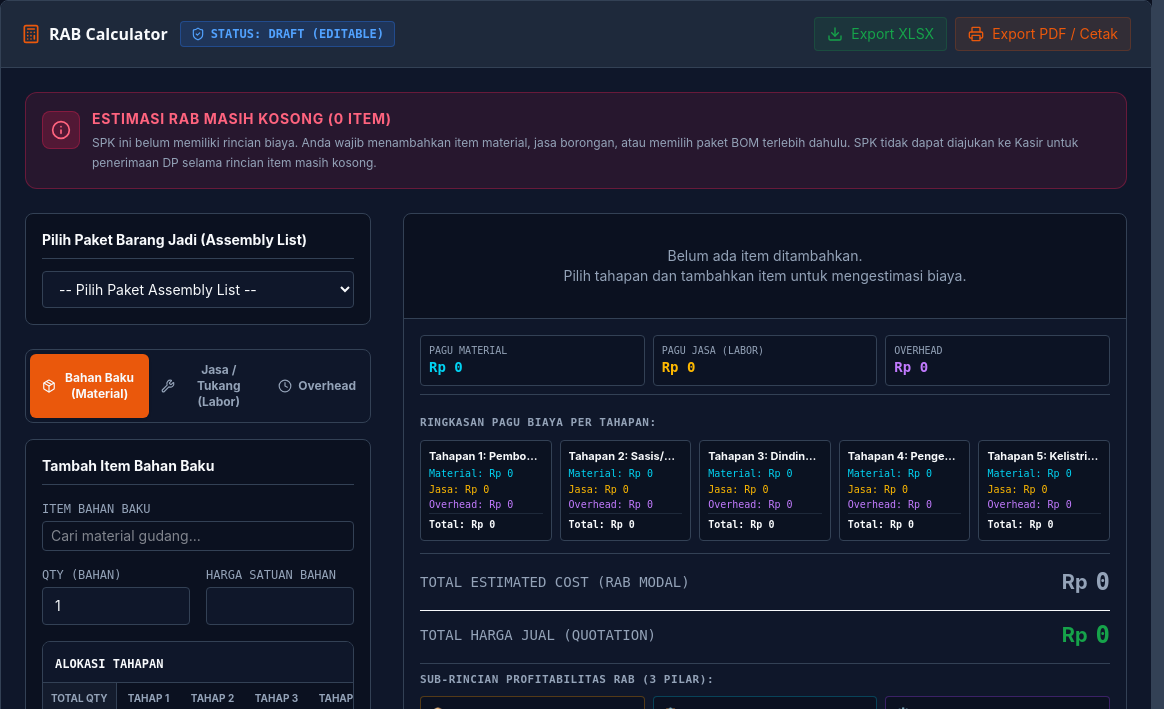
Component: RabCalculator (Labor Entry & Pagu Jasa) › auto-fills labor name and standard selling/cost rate when a suggestion is clicked
Expected: the text "Jasa / Tukang (Labor)" is shown, [197,362,240,409]
Click the button "Jasa / Tukang (Labor)". click: (209, 386)
box: [149,354,268,418]
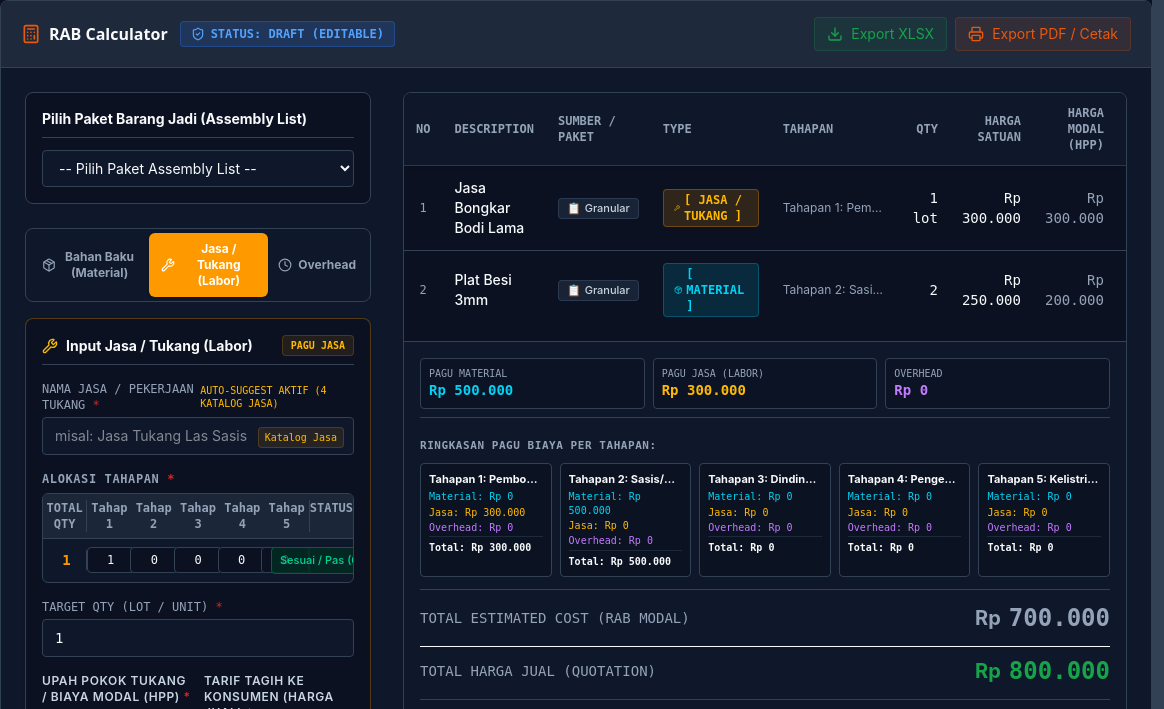
Type "cat" into the field with placeholder "misal: Jasa Tukang Las Sasis". click: (198, 436)
box: [42,417,354,455]
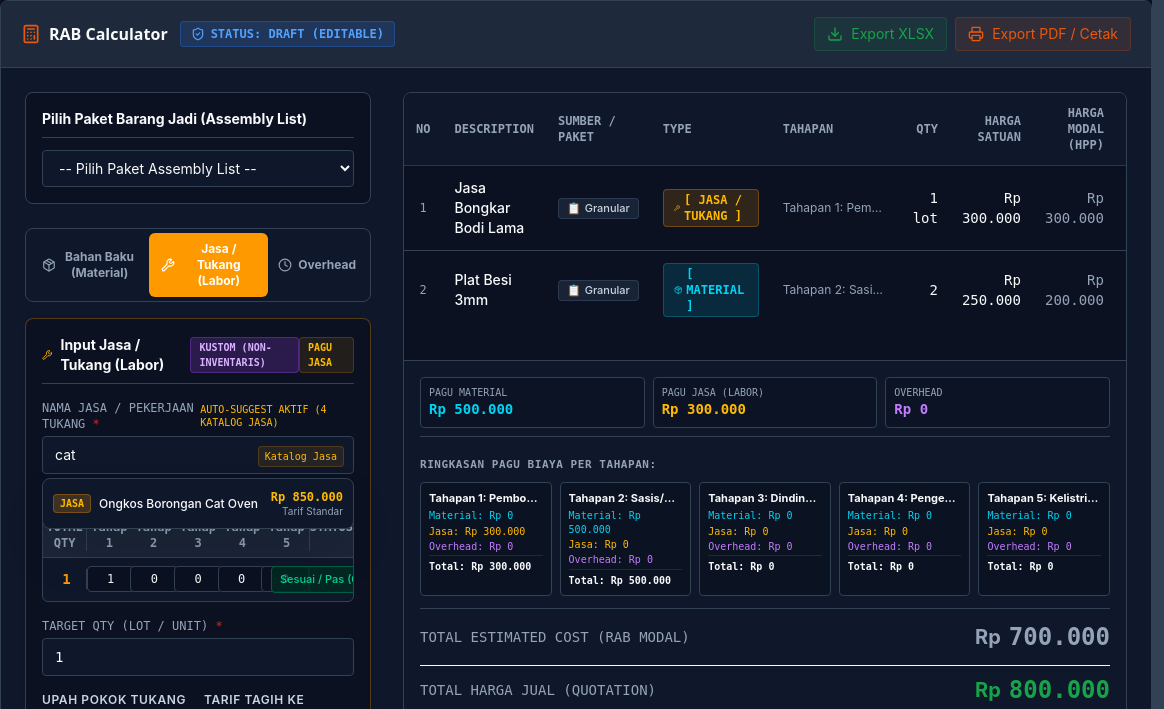
Expected: the text "Ongkos Borongan Cat Oven" is shown
# Select the item via mousedown
Press the mouse on the text "Ongkos Borongan Cat Oven" at (179, 504), box [99,496,258,512]
(page scrolled)
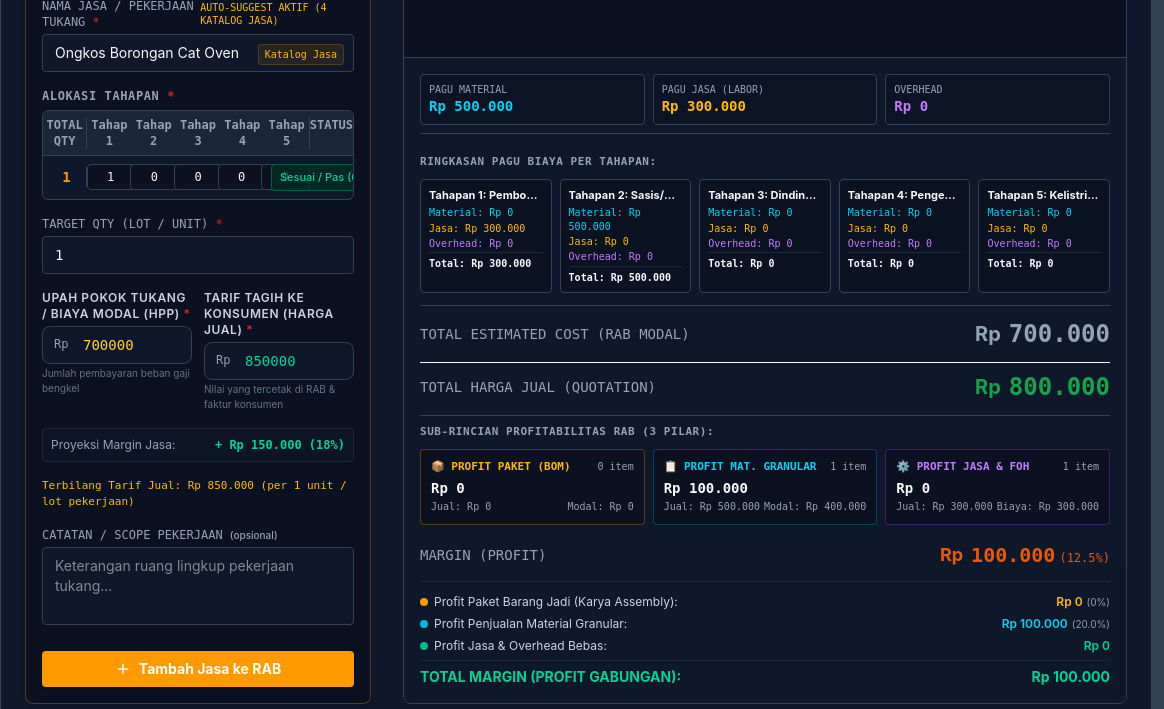
Expected: the field with placeholder "misal: Jasa Tukang Las Sasis" holds "Ongkos Borongan Cat Oven", [42,34,354,72]
Expected: the number field with placeholder "Tarif yang ditagihkan di SPK..." holds "850000", [204,342,354,380]
